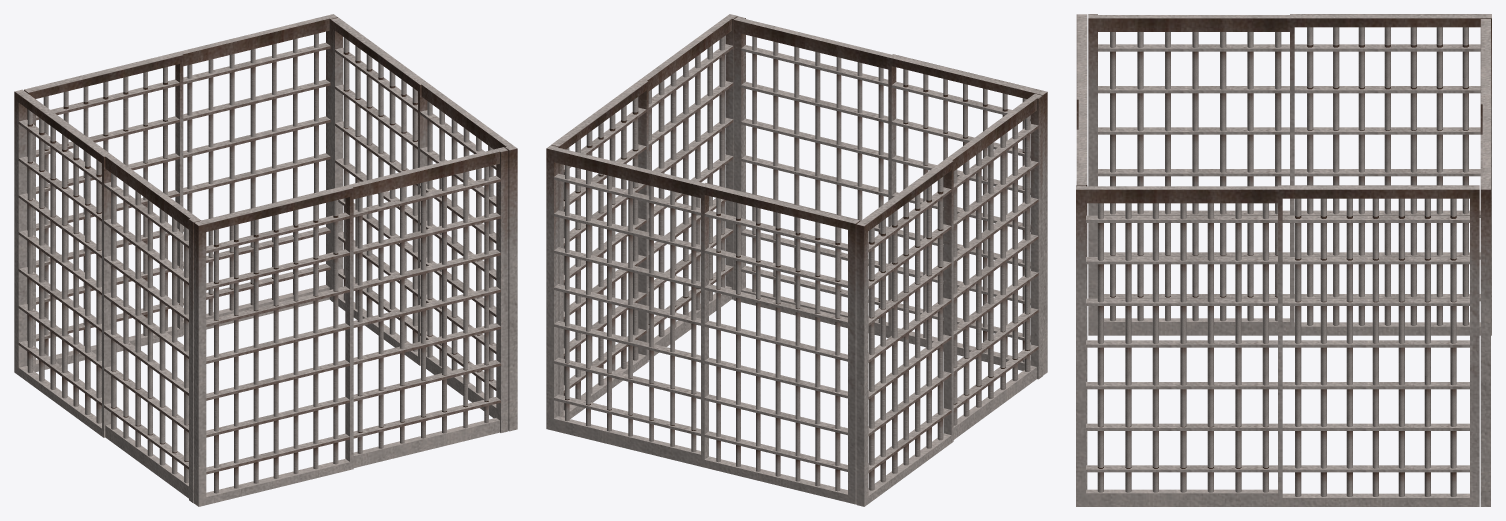
Rendered from prison.obj.
3 renders of one model, left to right at view 1: azimuth 30°, elevation 25°; view 2: azimuth 150°, elevation 25°; view 3: azimuth 270°, elevation 25°, orthographic. The views are drawn at different scales.
Parts seen in each view (by area): view 1: Mesh29 Group1 Model, Mesh87 Group3 Model, Mesh116 Group4 Model, Mesh58 Group2 Model, Mesh68 Component_2_35 Group3 Model, Mesh7 Component_2_5 Group1 Model, Mesh27 Component_2_14 Group1 Model, Mesh3 Component_2_2 Group1 Model, Mesh6 Component_2_4 Group1 Model, Mesh9 Component_2_6 Group1 Model, Mesh18 Component_2_11 Group1 Model, Mesh4 Component_2_3 Group1 Model (+82 smaller); view 2: Mesh58 Group2 Model, Mesh87 Group3 Model, Mesh29 Group1 Model, Mesh116 Group4 Model, Mesh65 Component_2_33 Group3 Model, Mesh62 Component_2_31 Group3 Model, Mesh84 Component_2_41 Group3 Model, Mesh35 Component_2_18 Group2 Model, Mesh32 Component_2_16 Group2 Model, Mesh42 Component_2_22 Group2 Model, Mesh45 Component_2_24 Group2 Model, Mesh47 Component_2_25 Group2 Model (+81 smaller); view 3: Mesh116 Group4 Model, Mesh87 Group3 Model, Mesh58 Group2 Model, Mesh29 Group1 Model, Mesh100 Component_2_50 Group4 Model, Mesh90 Component_2_44 Group4 Model, Mesh94 Component_2_47 Group4 Model, Mesh103 Component_2_52 Group4 Model, Mesh114 Component_2_56 Group4 Model, Mesh93 Component_2_46 Group4 Model, Mesh96 Component_2_48 Group4 Model, Mesh91 Component_2_45 Group4 Model (+48 smaller).
Boxes of the visible parts, bbox=[...] form: Mesh29 Group1 Model: bbox=[194, 147, 508, 506]; Mesh87 Group3 Model: bbox=[14, 89, 201, 503]; Mesh116 Group4 Model: bbox=[330, 17, 517, 431]; Mesh58 Group2 Model: bbox=[24, 14, 337, 371]; Mesh68 Component_2_35 Group3 Model: bbox=[159, 208, 165, 465]; Mesh7 Component_2_5 Group1 Model: bbox=[333, 200, 338, 464]; Mesh27 Component_2_14 Group1 Model: bbox=[313, 205, 318, 469]; Mesh3 Component_2_2 Group1 Model: bbox=[253, 219, 258, 483]; Mesh6 Component_2_4 Group1 Model: bbox=[273, 214, 278, 478]; Mesh9 Component_2_6 Group1 Model: bbox=[293, 209, 298, 473]; Mesh18 Component_2_11 Group1 Model: bbox=[357, 197, 362, 453]; Mesh4 Component_2_3 Group1 Model: bbox=[378, 192, 383, 448]; Mesh58 Group2 Model: bbox=[546, 145, 860, 504]; Mesh87 Group3 Model: bbox=[856, 93, 1042, 506]; Mesh29 Group1 Model: bbox=[733, 16, 1047, 375]; Mesh116 Group4 Model: bbox=[551, 14, 737, 418]; Mesh65 Component_2_33 Group3 Model: bbox=[937, 177, 943, 440]; Mesh62 Component_2_31 Group3 Model: bbox=[963, 160, 969, 416]; Mesh84 Component_2_41 Group3 Model: bbox=[1024, 116, 1030, 371]; Mesh35 Component_2_18 Group2 Model: bbox=[775, 212, 780, 476]; Mesh32 Component_2_16 Group2 Model: bbox=[795, 217, 800, 481]; Mesh42 Component_2_22 Group2 Model: bbox=[835, 227, 840, 491]; Mesh45 Component_2_24 Group2 Model: bbox=[815, 222, 820, 486]; Mesh47 Component_2_25 Group2 Model: bbox=[691, 196, 696, 451]; Mesh116 Group4 Model: bbox=[1076, 185, 1479, 506]; Mesh87 Group3 Model: bbox=[1088, 14, 1491, 335]; Mesh58 Group2 Model: bbox=[1480, 19, 1490, 506]; Mesh29 Group1 Model: bbox=[1076, 14, 1087, 489]; Mesh100 Component_2_50 Group4 Model: bbox=[1450, 198, 1456, 496]; Mesh90 Component_2_44 Group4 Model: bbox=[1398, 198, 1404, 496]; Mesh94 Component_2_47 Group4 Model: bbox=[1295, 198, 1301, 496]; Mesh103 Component_2_52 Group4 Model: bbox=[1424, 198, 1430, 496]; Mesh114 Component_2_56 Group4 Model: bbox=[1320, 198, 1326, 496]; Mesh93 Component_2_46 Group4 Model: bbox=[1372, 198, 1378, 496]; Mesh96 Component_2_48 Group4 Model: bbox=[1346, 198, 1352, 496]; Mesh91 Component_2_45 Group4 Model: bbox=[1235, 203, 1241, 492].
Size of the model in its own units: 166 by 140 by 166.
Materials: 2 (1 with a texture image).
